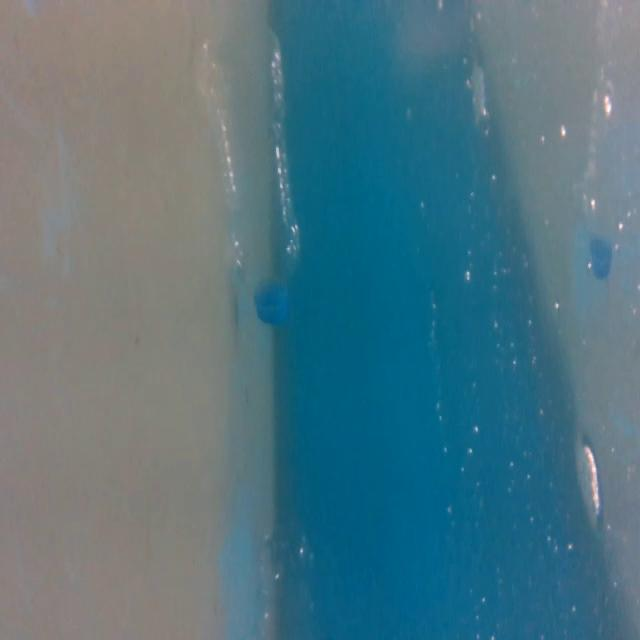plastic bottle: (183, 29, 316, 332)
